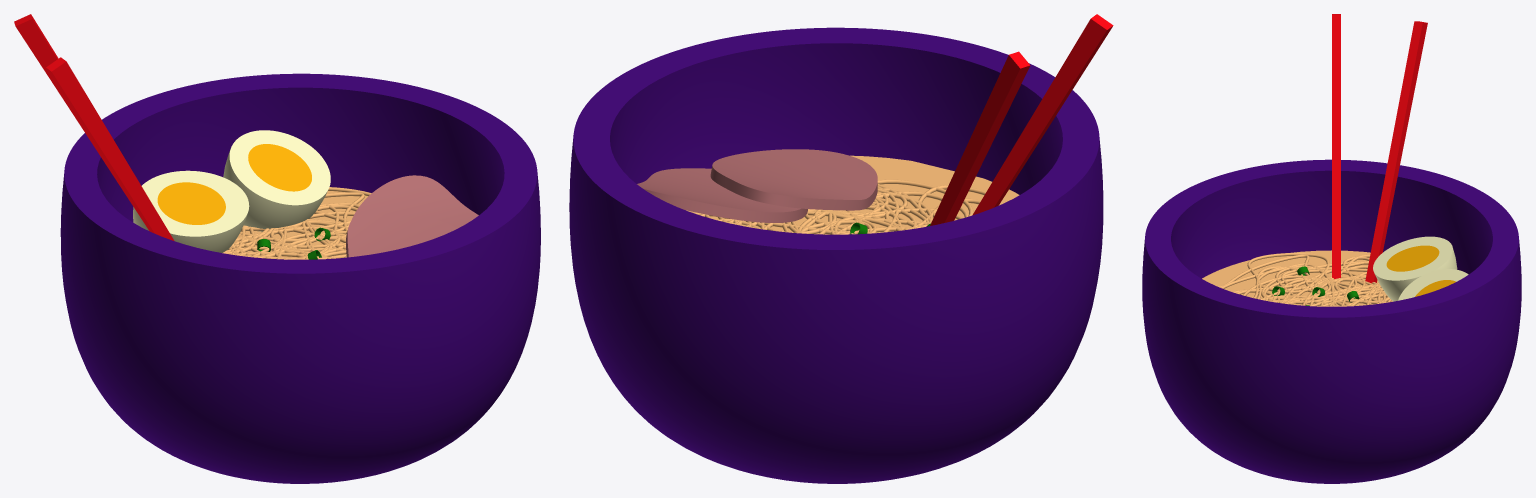
The model's file is noodles.fbx.
3 renders of one model, left to right at view 1: azimuth 30°, elevation 25°; view 2: azimuth 150°, elevation 25°; view 3: azimuth 270°, elevation 25°, orthographic. The views are drawn at different scales.
Parts seen in each view (by area): view 1: bowl_2, egg, meat_2, chopsticks_2, noodles_2, yoke_2; view 2: bowl_2, meat_2, chopsticks_2, noodles_2; view 3: bowl_2, noodles_2, chopsticks_2, egg, yoke_2.
Boxes of the visible parts, left/top/right/bottom form: bowl_2: left=60, top=73, right=540, bottom=483; egg: left=133, top=130, right=330, bottom=252; meat_2: left=346, top=175, right=478, bottom=257; chopsticks_2: left=14, top=14, right=174, bottom=240; noodles_2: left=222, top=187, right=371, bottom=259; yoke_2: left=157, top=144, right=311, bottom=224; bowl_2: left=569, top=27, right=1103, bottom=483; meat_2: left=637, top=149, right=877, bottom=222; chopsticks_2: left=930, top=14, right=1113, bottom=225; noodles_2: left=686, top=155, right=1019, bottom=234; bowl_2: left=1142, top=159, right=1521, bottom=483; noodles_2: left=1202, top=250, right=1392, bottom=306; chopsticks_2: left=1332, top=14, right=1427, bottom=283; egg: left=1373, top=236, right=1468, bottom=301; yoke_2: left=1386, top=245, right=1455, bottom=296.
Size of the model in its own units: 1.73 by 1.6 by 1.58.
